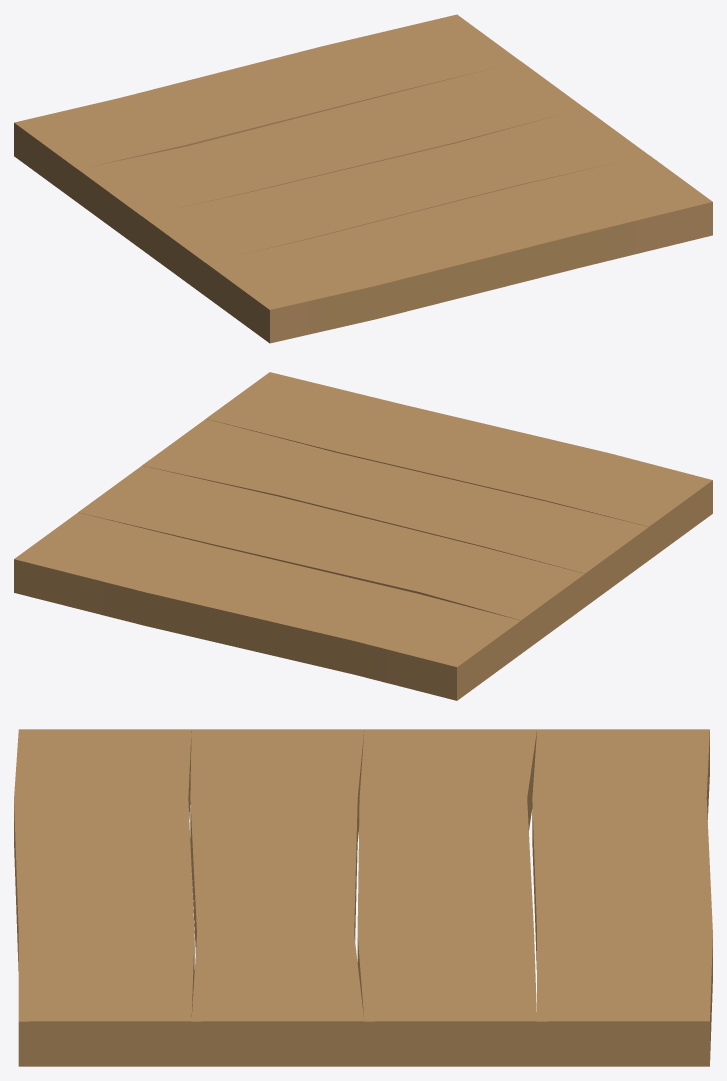
Rendered from SM_PlankBase_nonails.fbx.
The picture shows the model from 3 angles, top to bottom: view 1: azimuth 30°, elevation 25°; view 2: azimuth 150°, elevation 25°; view 3: azimuth 270°, elevation 25°; orthographic projection. The views are drawn at different scales.
Visible parts, largest first — view 1: Plank_base_nonails; view 2: Plank_base_nonails; view 3: Plank_base_nonails.
Boxes of the visible parts, x1,y1,x2,y2 form: Plank_base_nonails: (14,14,712,343); Plank_base_nonails: (14,372,712,700); Plank_base_nonails: (14,729,712,1066).
Bounding box in the file's own units: 400 × 29.04 × 405.
